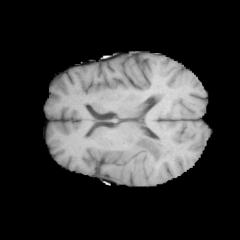glioma: (107, 135, 174, 185)
